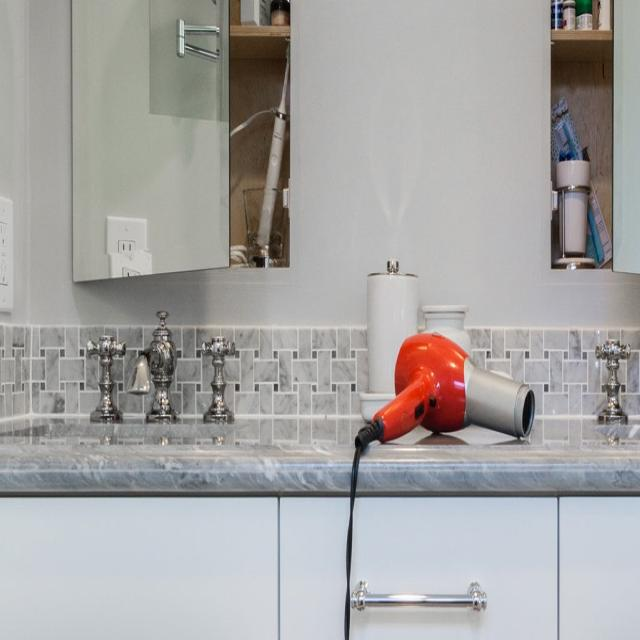dryer: (338, 315, 548, 497)
